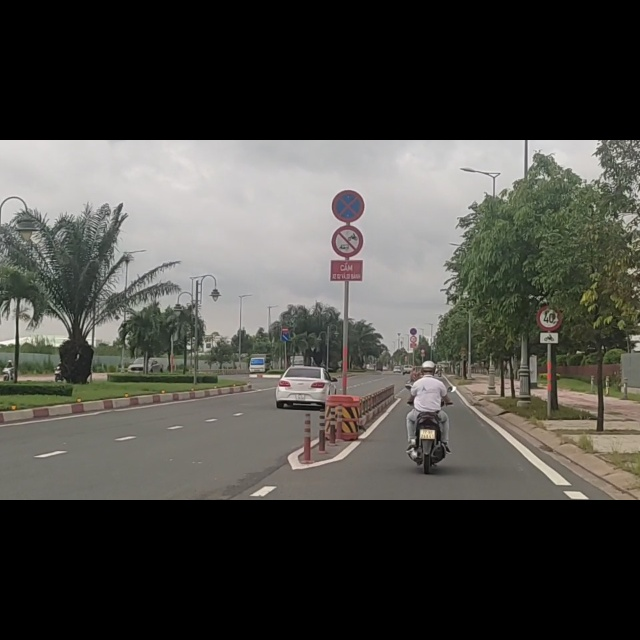bien_cam: (331, 82, 365, 149), (331, 149, 364, 206), (537, 295, 563, 341), (539, 338, 559, 365)
